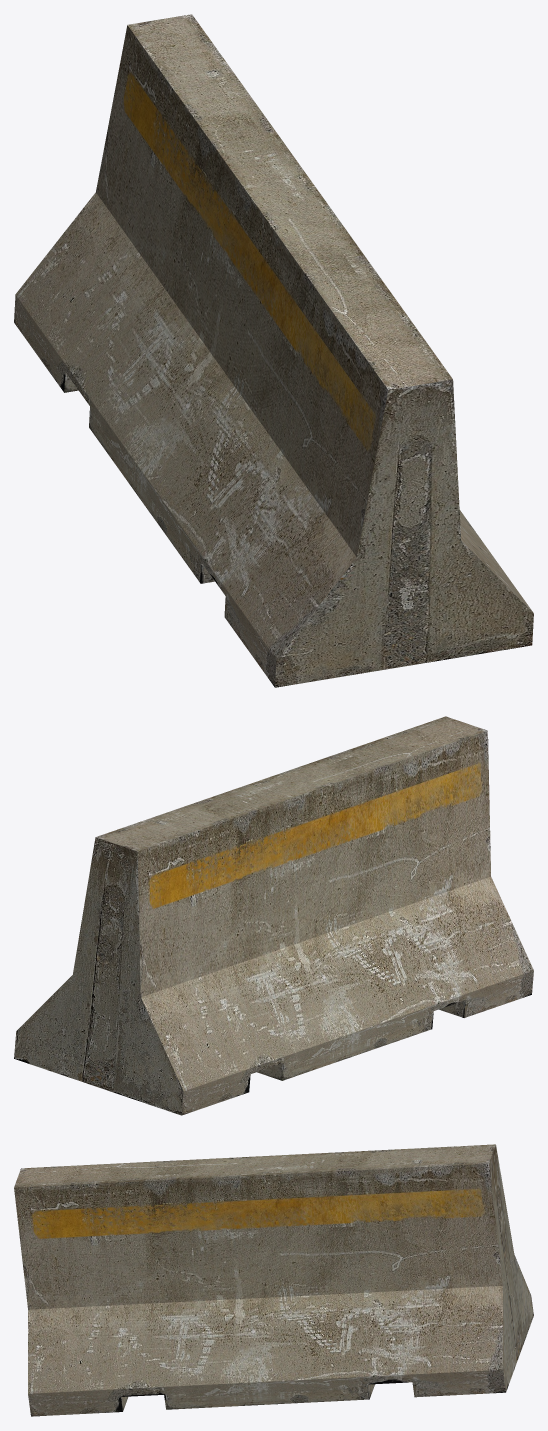
Rendered from Road_block_v1 (3).glb.
3 views of the same model, one above another, from view 1: azimuth 30°, elevation 25°; view 2: azimuth 150°, elevation 25°; view 3: azimuth 270°, elevation 25° (orthographic). The views are drawn at different scales.
Parts seen in each view (by area): view 1: Road_block_v1 (3); view 2: Road_block_v1 (3); view 3: Road_block_v1 (3).
Boxes of the visible parts, left/top/right/bottom form: Road_block_v1 (3): left=14, top=14, right=533, bottom=687; Road_block_v1 (3): left=14, top=716, right=533, bottom=1115; Road_block_v1 (3): left=14, top=1144, right=533, bottom=1416.
Bounding box in the file's own units: 1.24 × 1.36 × 2.52.
Materials: 1 (1 with a texture image).
